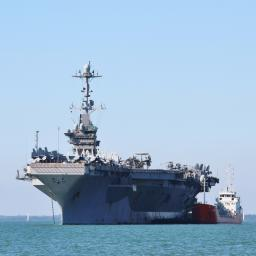Portanaves: (15, 63, 222, 230)
